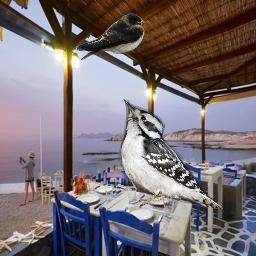Swallow: (76, 13, 146, 60)
Woodpecker: (112, 99, 223, 209)
